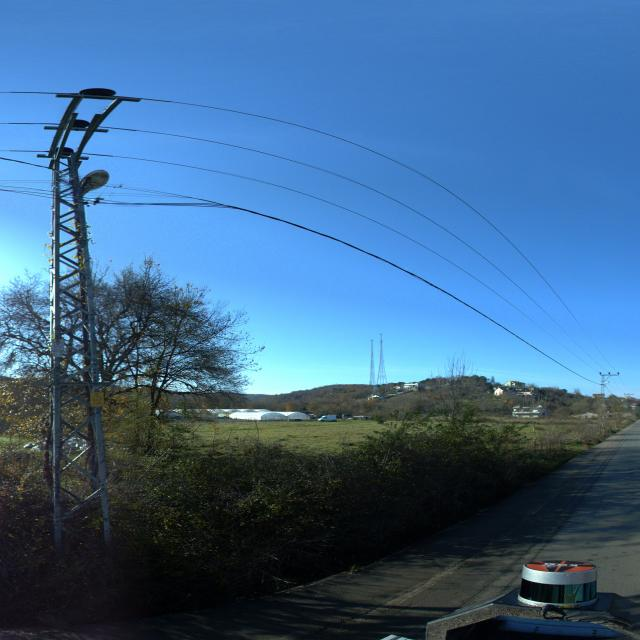Utility Pole Information Plate: (89, 392, 106, 407), (51, 338, 65, 352)
